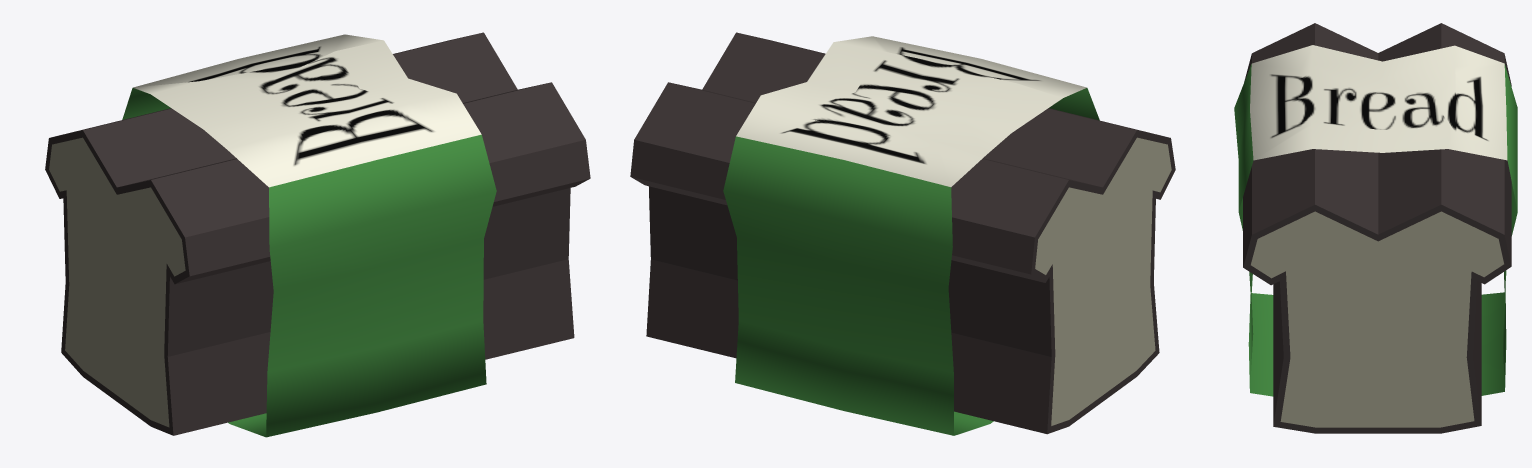
The model's file is bread.fbx.
3 renders of one model, left to right at view 1: azimuth 30°, elevation 25°; view 2: azimuth 150°, elevation 25°; view 3: azimuth 270°, elevation 25°, orthographic. The views are drawn at different scales.
Parts seen in each view (by area): view 1: Bread, Bag; view 2: Bread, Bag; view 3: Bread, Bag.
Part boxes in pixels (x1,y1,x2,y2): Bread: (45,32,590,435); Bag: (122,34,496,437); Bread: (630,32,1175,434); Bag: (723,36,1099,435); Bread: (1243,23,1511,433); Bag: (1234,45,1517,396).
Bounding box in the file's own units: 422 × 223 × 225.
Materials: 2 (2 with a texture image).
